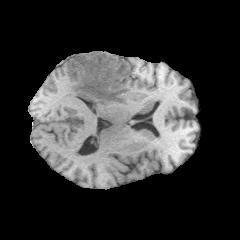glioma: (70, 52, 129, 106)
